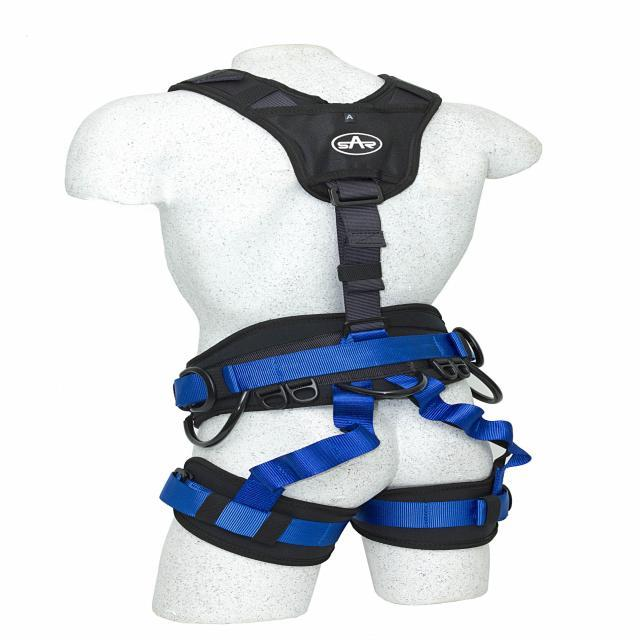belt: (140, 71, 536, 568)
